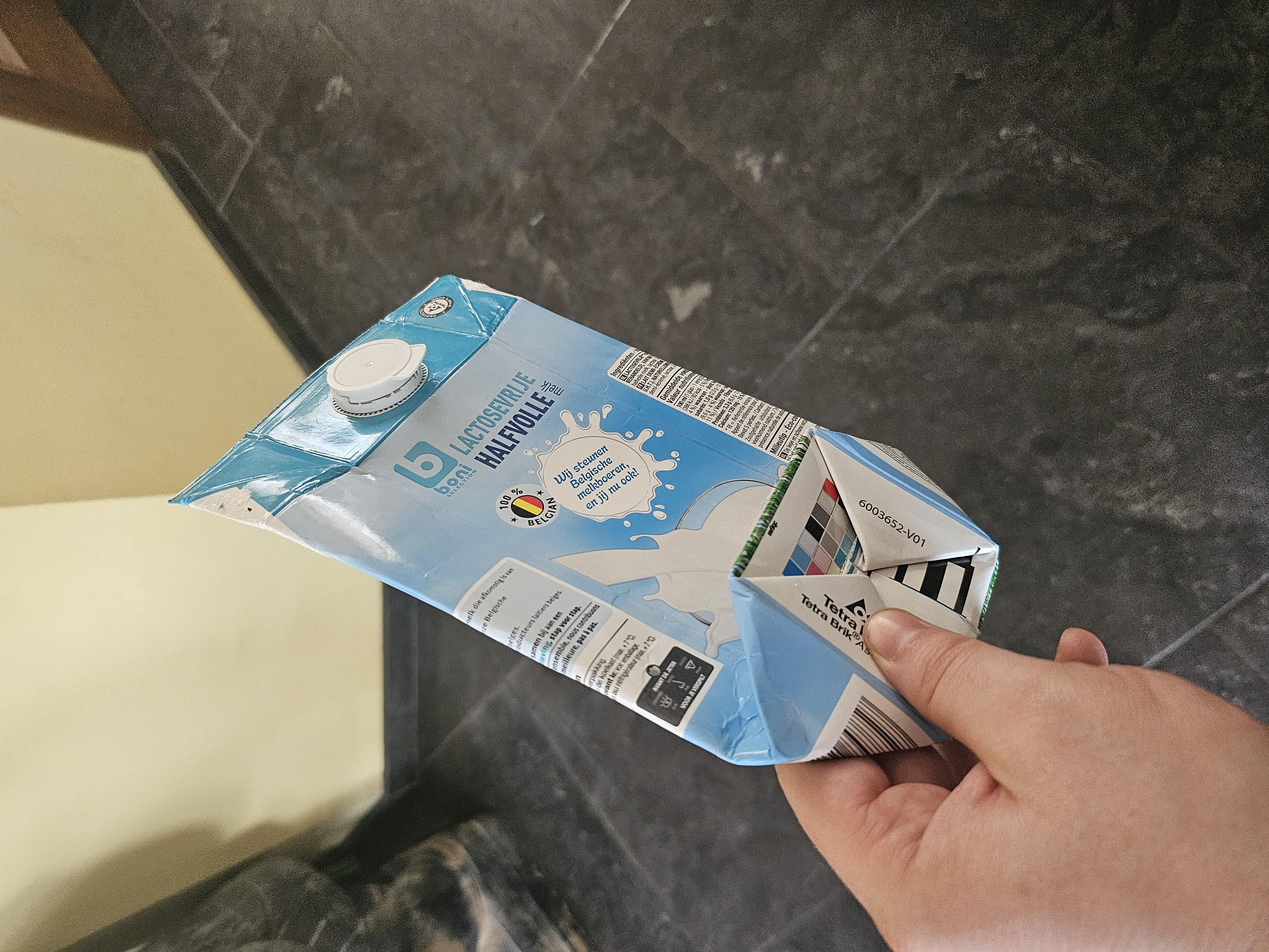Cardboard: (250, 119, 906, 752)
Plastic: (711, 239, 819, 325)
